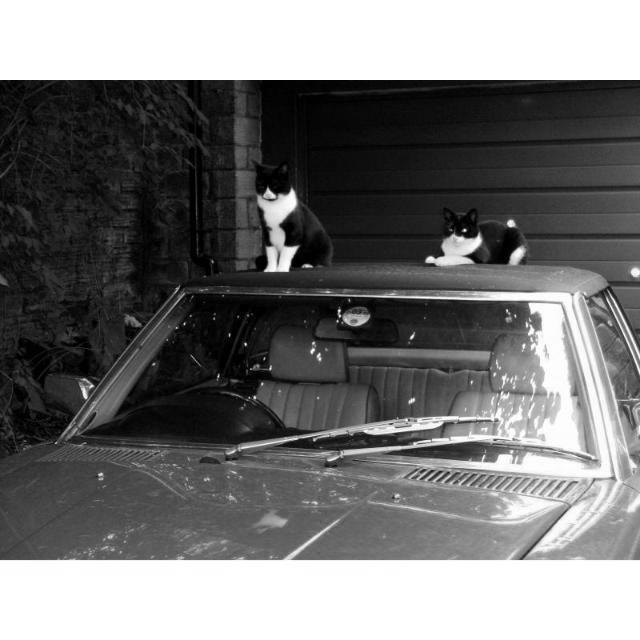bonnet-dent: (5, 429, 581, 560)
